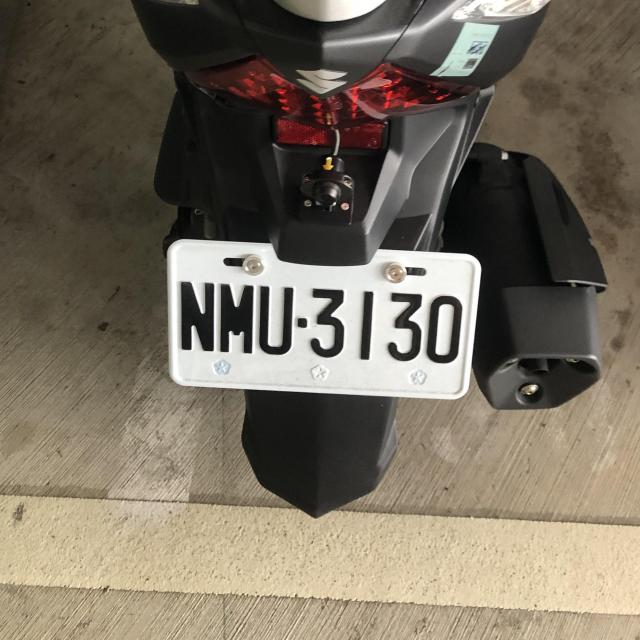W: (158, 239, 482, 403)
